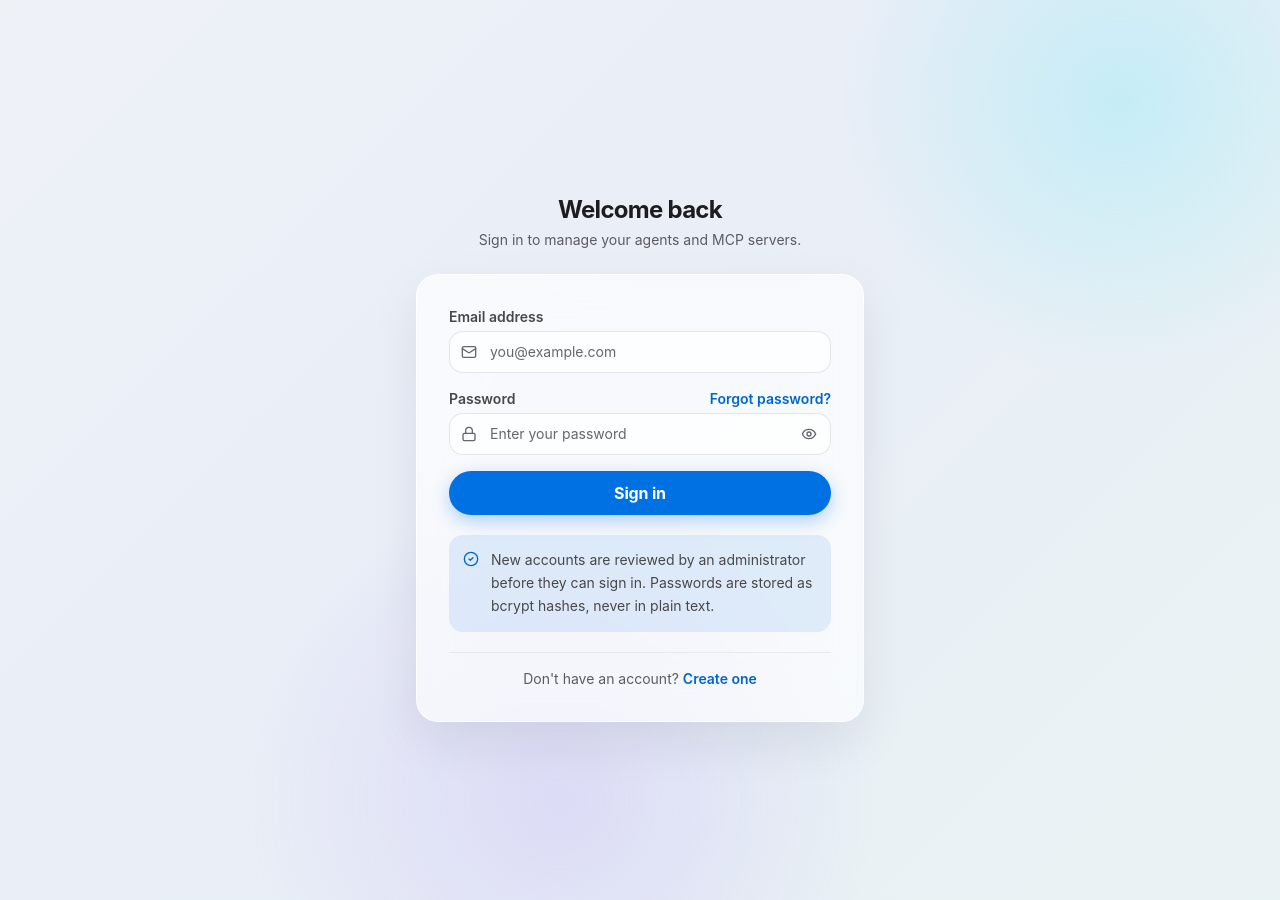
sign-in failures › shows any other server refusal in the alert without marking the inputs
Type "person@example.test" into the field labelled "Email address" at (640, 352), box [449,331,831,373]
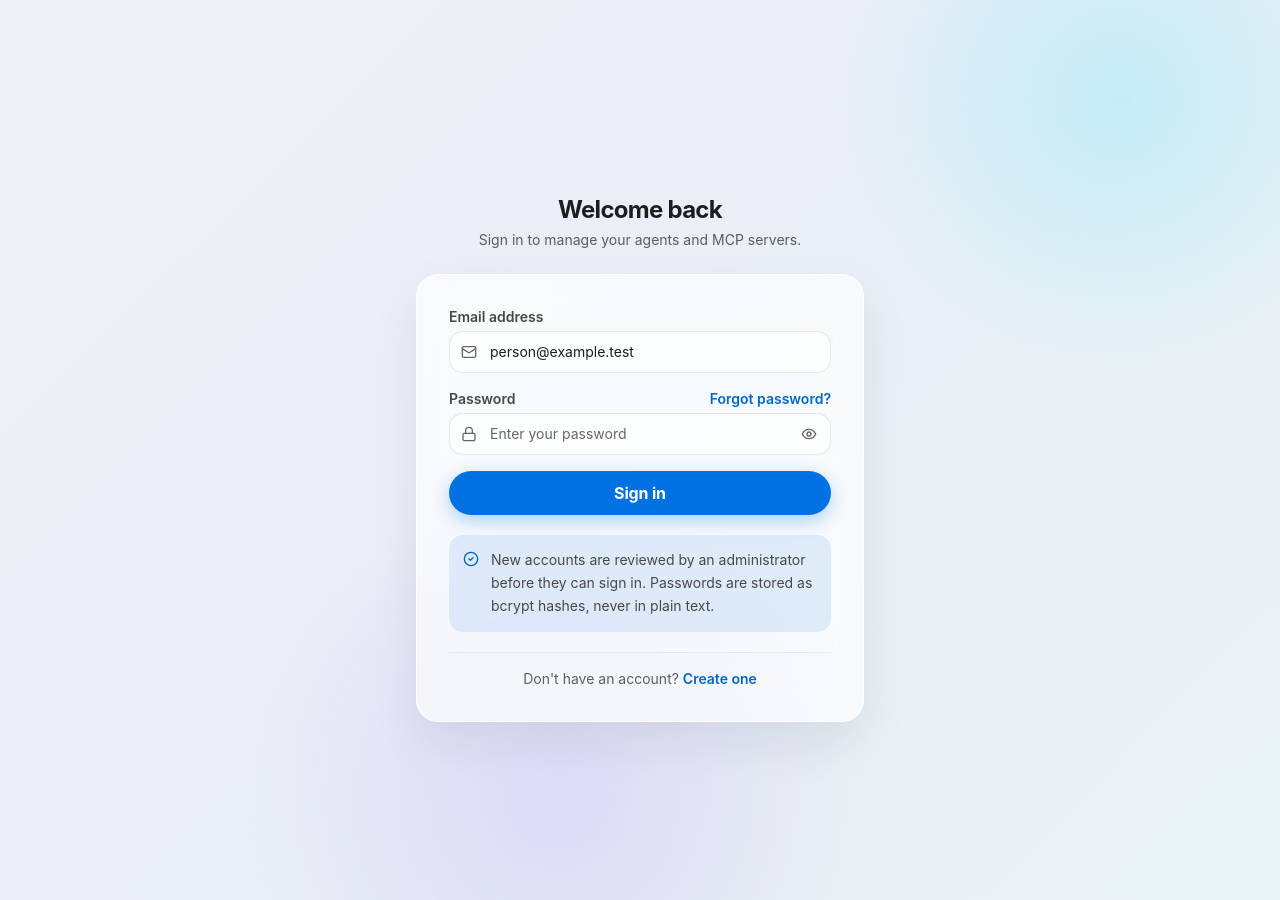
Type "not-the-password" into the password field labelled "Password" at (640, 434), box [449,413,831,455]
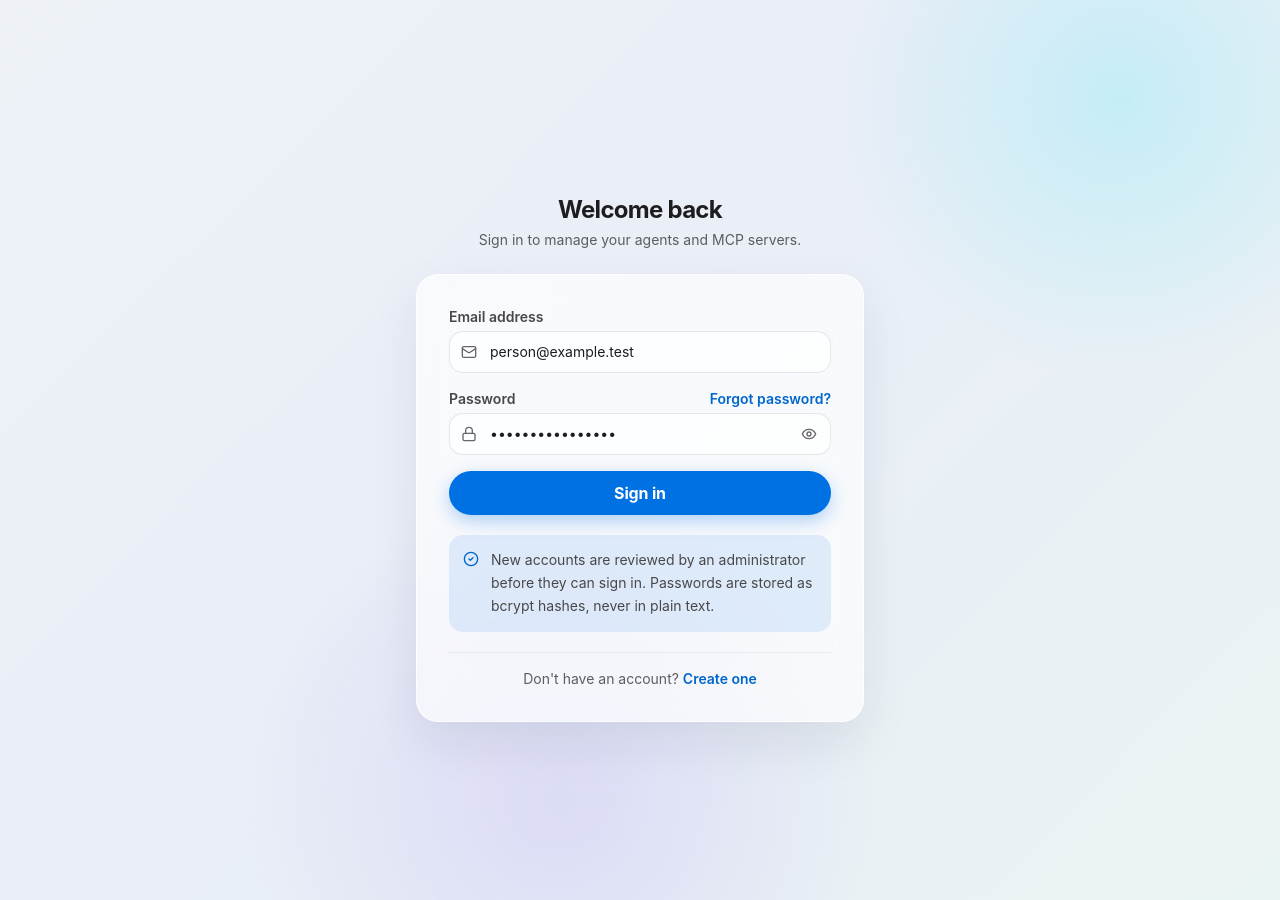
Click the button "Sign in" at (640, 493), box [449,471,831,515]
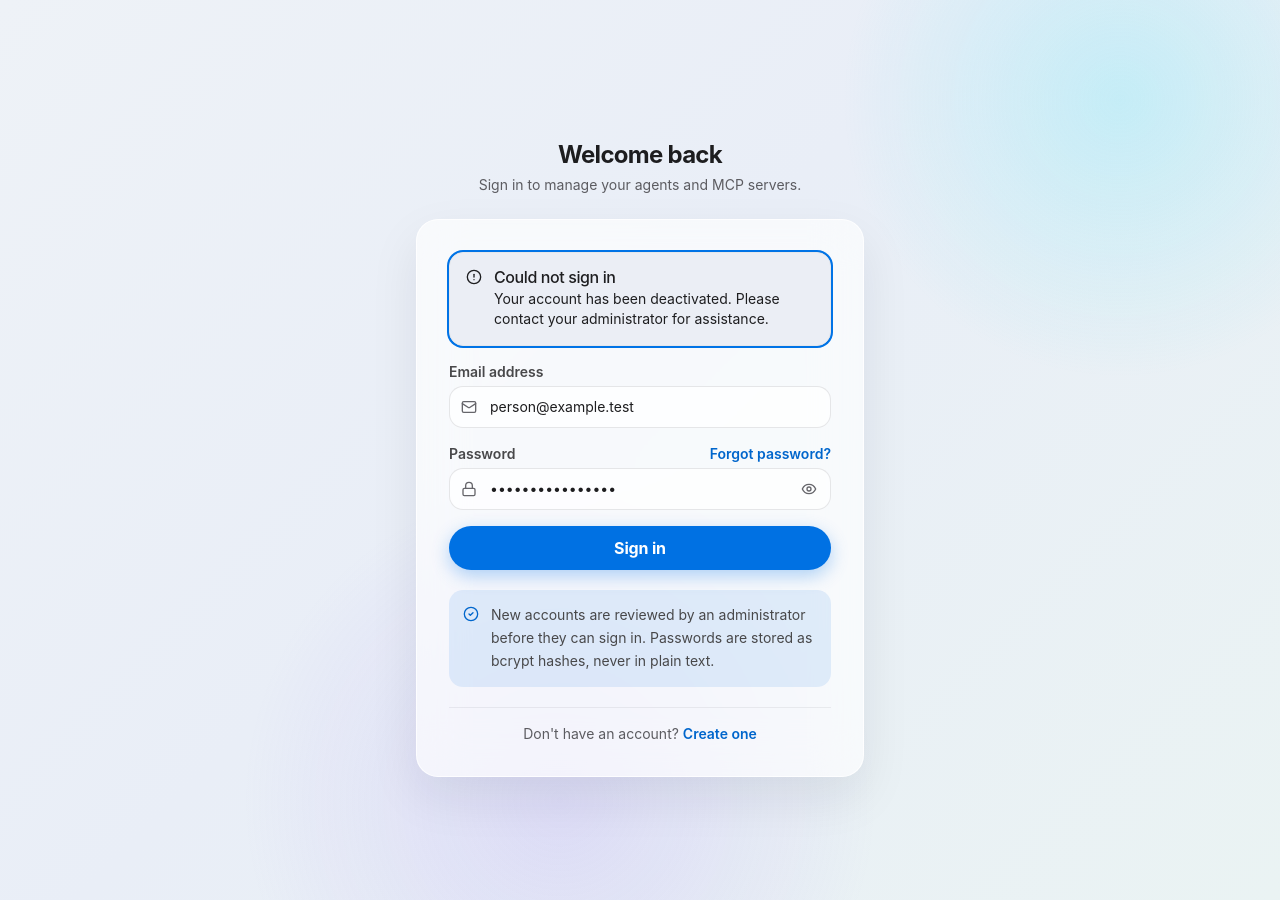
Expected: the message shows "Your account has been deactivated. Please contact your administrator for assistance.", [494,290,780,327]
